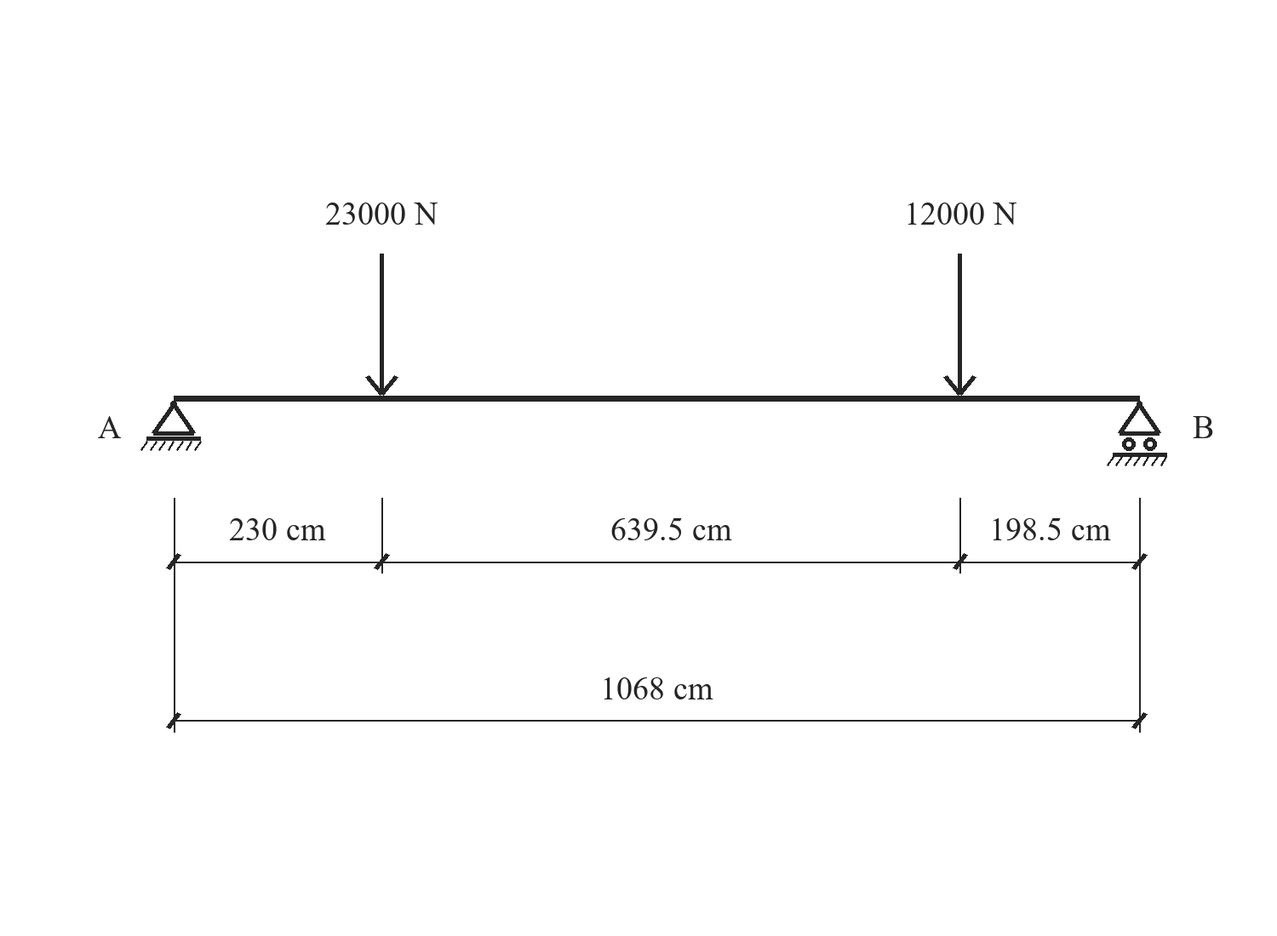pin_support: (140, 401, 202, 451)
point_load: (365, 254, 398, 396), (943, 254, 976, 396)
roller_support: (1107, 401, 1167, 466)
